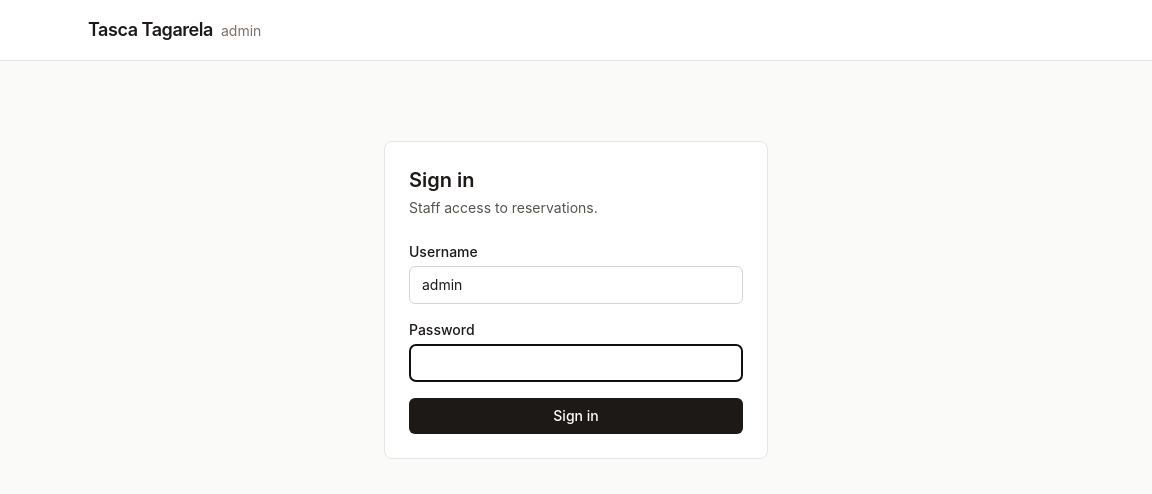
Test: login flow › logs in, stores the token and shows the day view
Type "right-password" into the password field labelled "Password". click: point(576, 363)
box: [409,344,743,382]
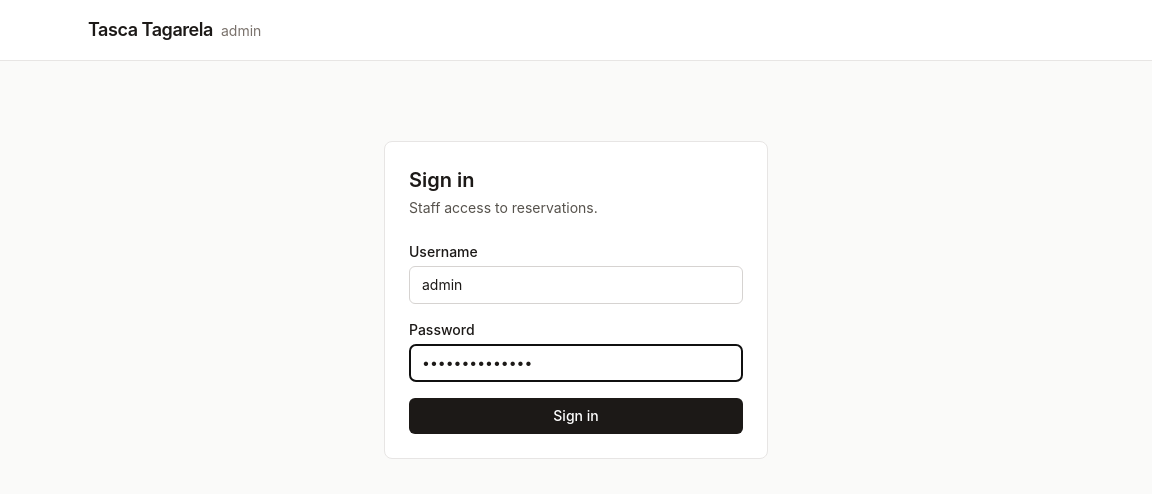
Click the button "Sign in". click: point(576, 416)
box: [409,398,743,434]
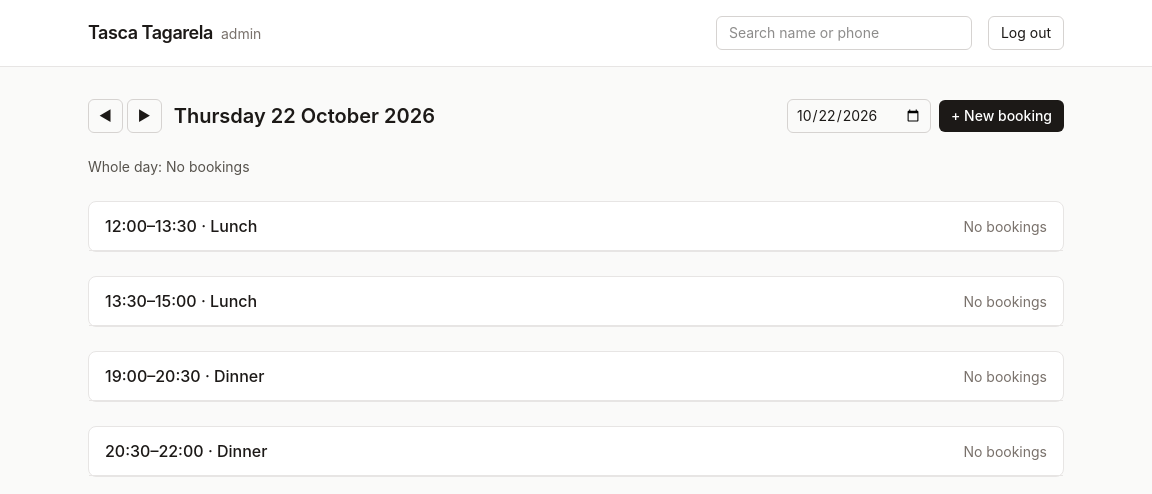
Expected: the text "Whole day: No bookings" is shown, [88,158,250,175]
Expected: the element "12:00–13:30 · Lunch" is shown, [88,201,1064,252]
